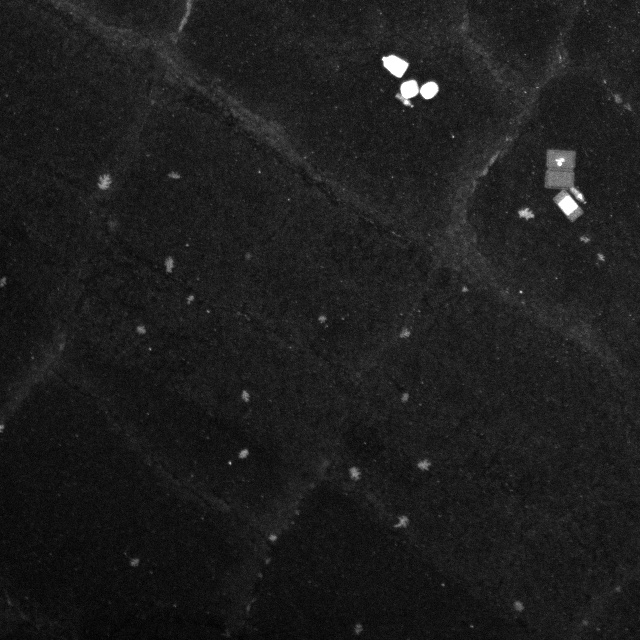bottle: (567, 181, 588, 206), (394, 91, 414, 110)
can: (380, 52, 409, 79), (418, 76, 441, 104), (399, 77, 421, 101)
container: (543, 146, 580, 191), (549, 186, 588, 225)
